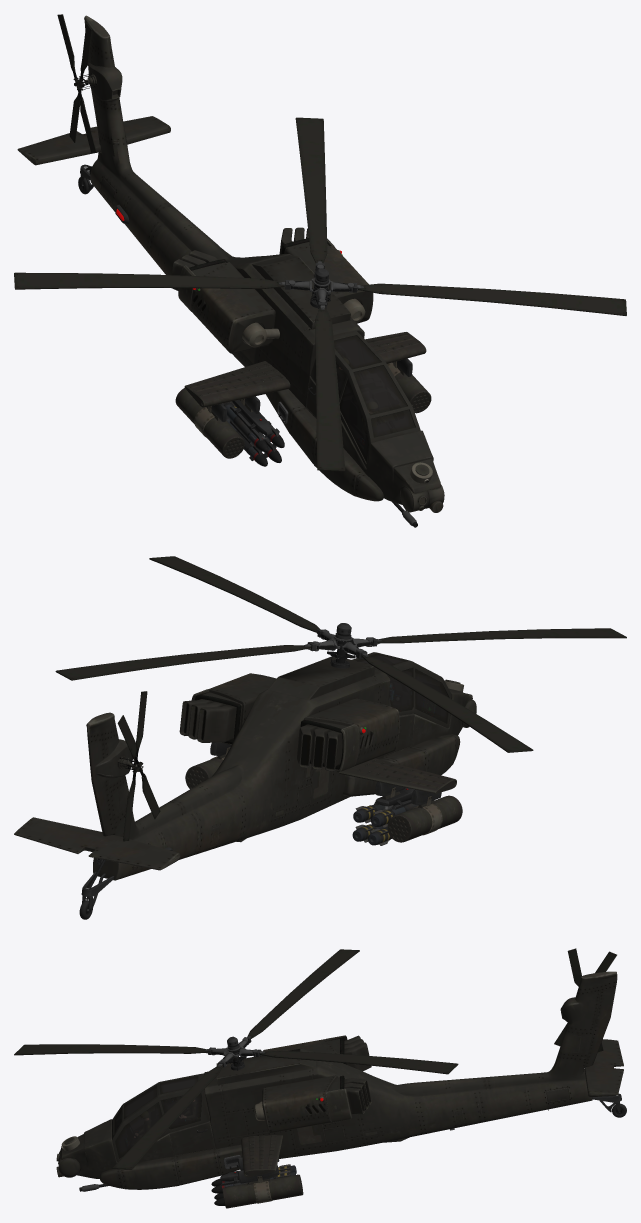
Rendered from Attack helicopter.glb.
3 views of the same model, one above another, from view 1: azimuth 30°, elevation 25°; view 2: azimuth 150°, elevation 25°; view 3: azimuth 270°, elevation 25° (orthographic). The views are drawn at different scales.
Parts seen in each view (by area): view 1: part_a.3, part_b.4, glass.16; view 2: part_a.3, part_b.4, glass.16; view 3: part_a.3, part_b.4, glass.16.
Boxes of the visible parts, left/top/right/bottom form: part_a.3: left=14, top=14, right=626, bottom=504; part_b.4: left=78, top=164, right=444, bottom=527; glass.16: left=334, top=335, right=415, bottom=462; part_a.3: left=14, top=556, right=626, bottom=880; part_b.4: left=79, top=623, right=476, bottom=919; glass.16: left=356, top=653, right=448, bottom=723; part_a.3: left=14, top=948, right=623, bottom=1189; part_b.4: left=56, top=1036, right=626, bottom=1208; glass.16: left=114, top=1076, right=201, bottom=1158.
Size of the model in its own units: 9.7 by 5.52 by 13.13.
Materials: 6 (6 with a texture image).
